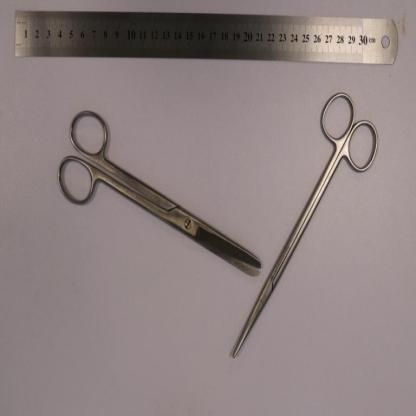7 Metzenbaum Scissors: (233, 90, 380, 359)
Dressing Scissors: (55, 106, 262, 278)
